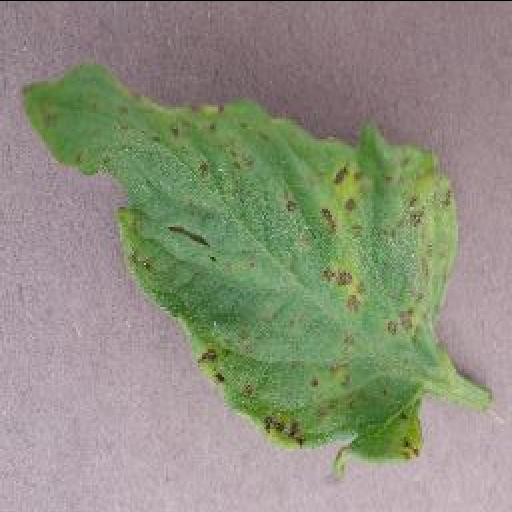disease_tomato: (18, 68, 462, 464)
